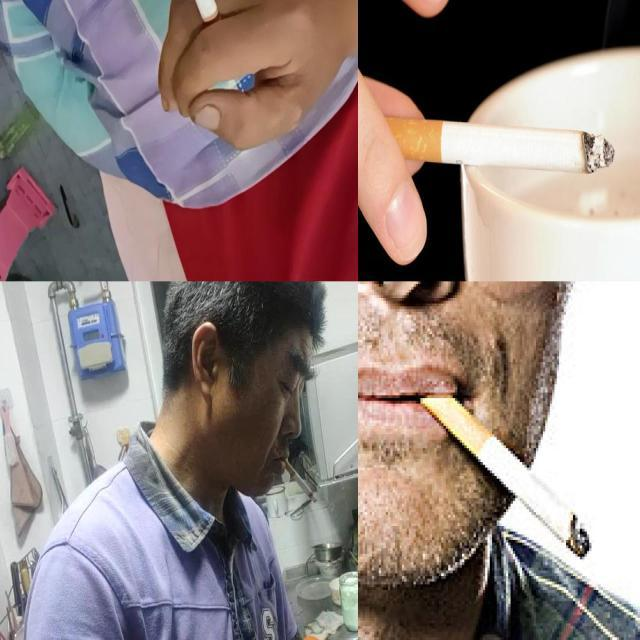smoking: (419, 383, 593, 560), (382, 114, 616, 180), (179, 0, 228, 43), (283, 457, 315, 500)
